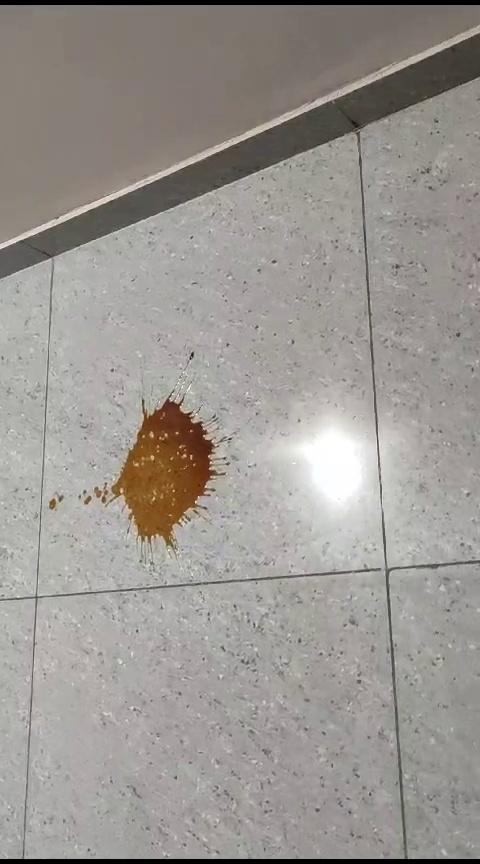dirty_floor: (53, 385, 232, 560)
